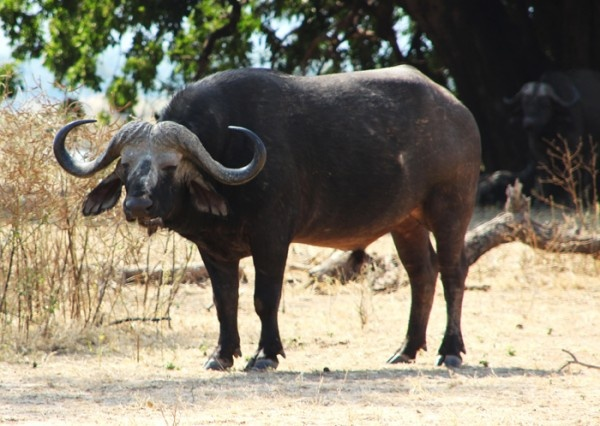buffalo: (52, 67, 488, 371)
